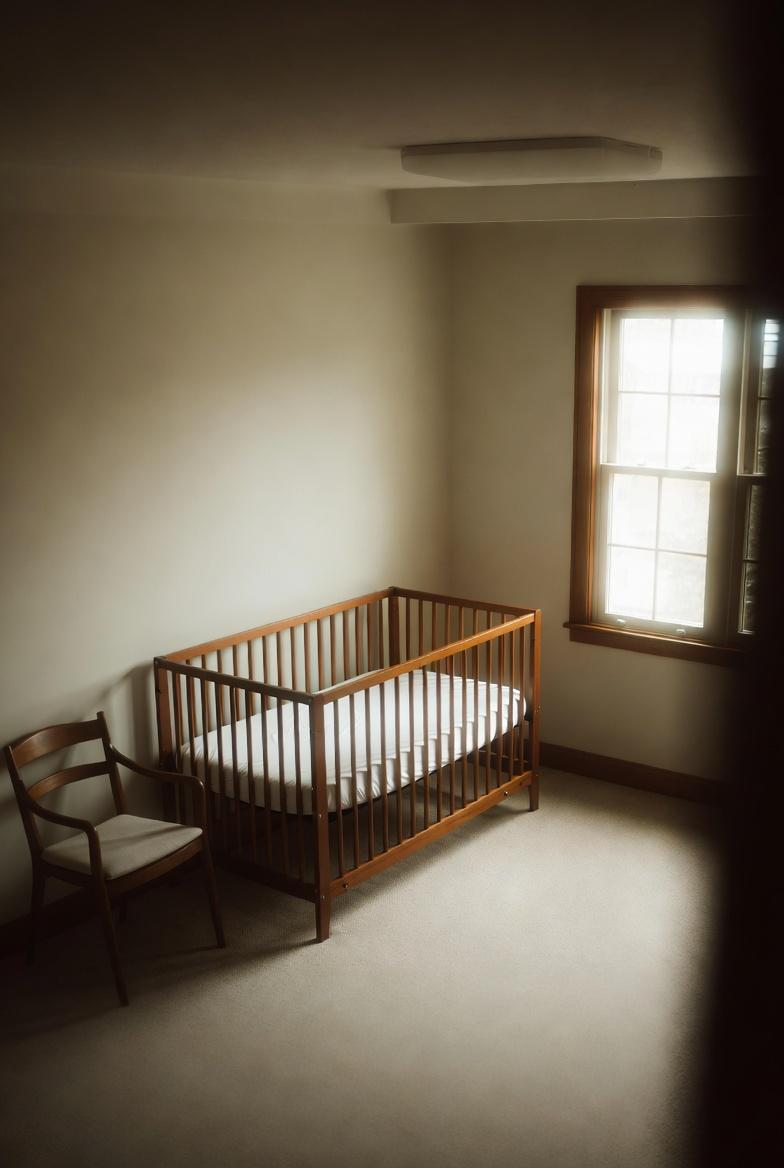crib: (152, 582, 542, 945)
